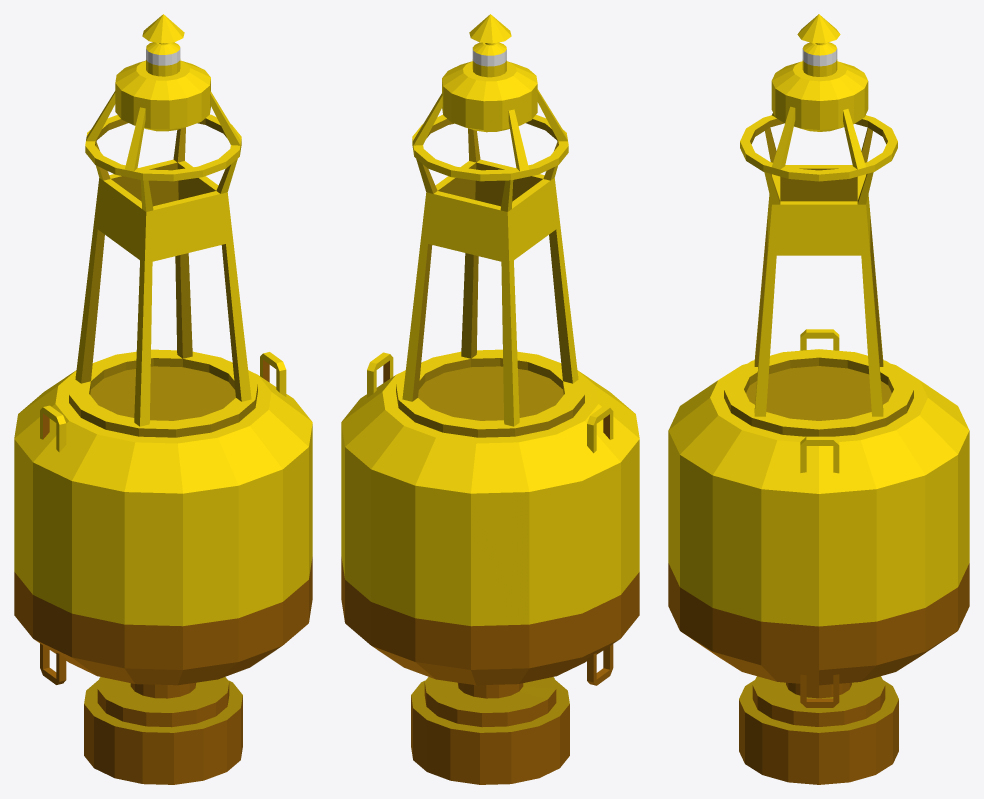
File: buoy_c.glb
3 views of the same model, side by side, from view 1: azimuth 30°, elevation 25°; view 2: azimuth 150°, elevation 25°; view 3: azimuth 270°, elevation 25° (orthographic).
Visible parts, largest first — view 1: buoy_lowpoly.002; view 2: buoy_lowpoly.002; view 3: buoy_lowpoly.002.
Boxes of the visible parts, <box> form: buoy_lowpoly.002: <box>14,14,312,784</box>; buoy_lowpoly.002: <box>341,14,639,784</box>; buoy_lowpoly.002: <box>668,14,969,784</box>.
Size of the model in its own units: 2.13 by 5.74 by 2.13.
1 material, 1 textured.
